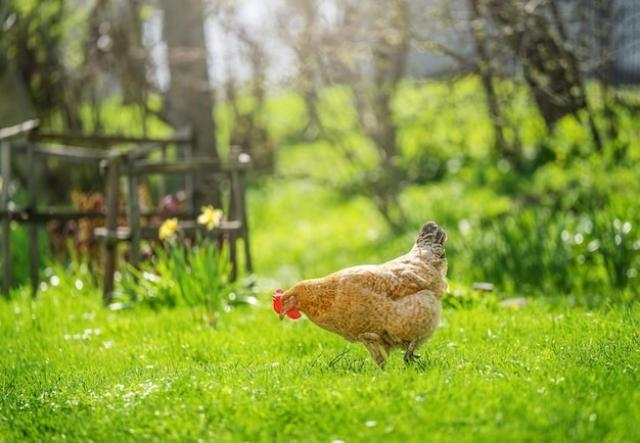Chicken: (272, 223, 448, 372)
